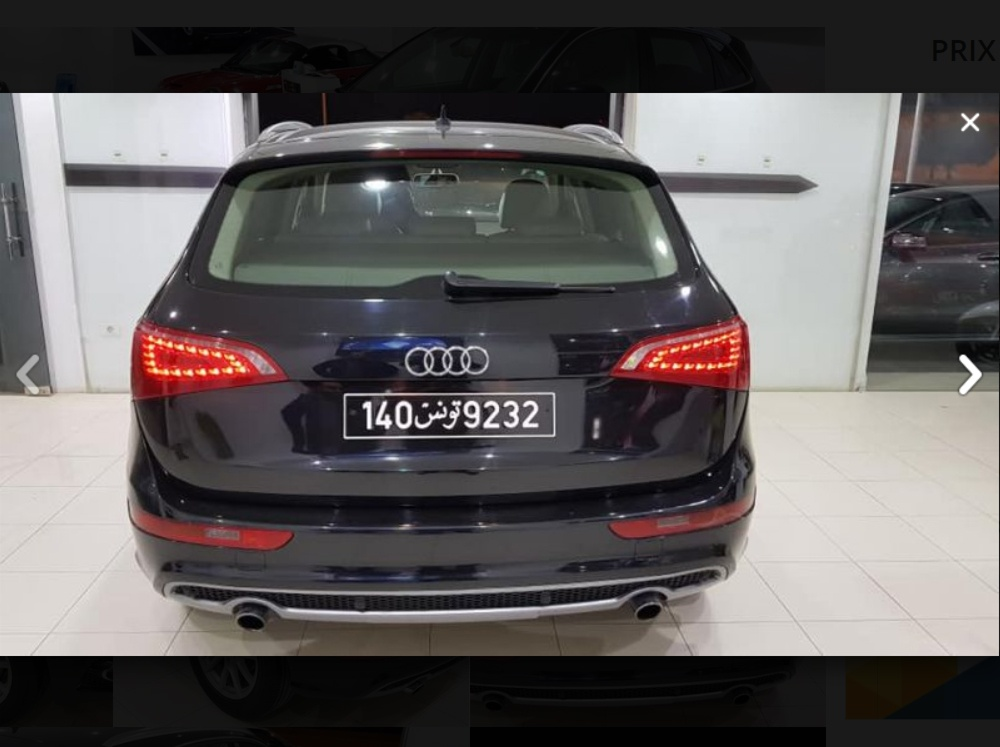LP: (338, 390, 560, 440)
